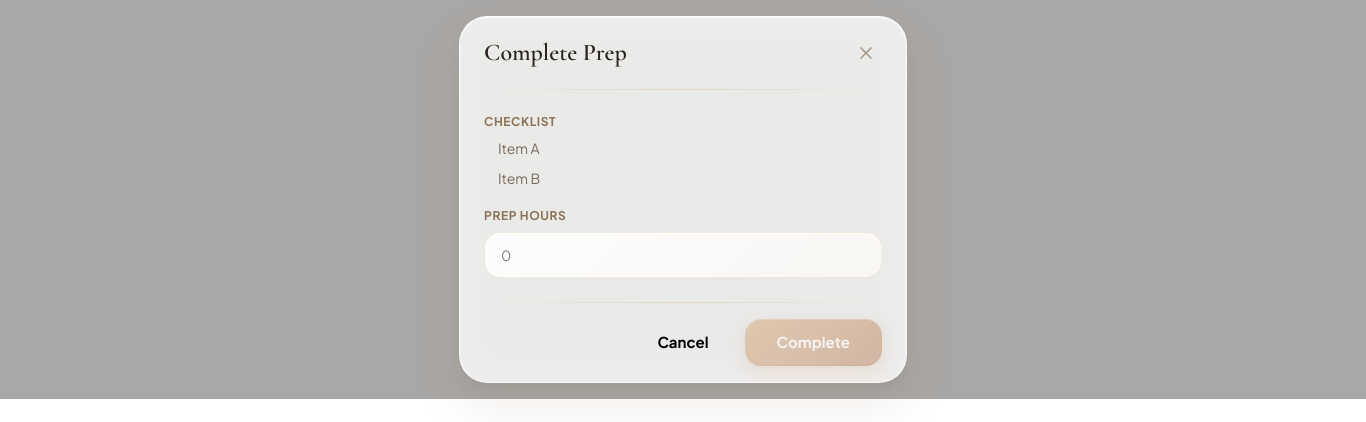
StepModal › Complete button enabled when hours > 0 and all checked
Type "3" into the number field with placeholder "0" at (683, 255), box [484,232,882,278]
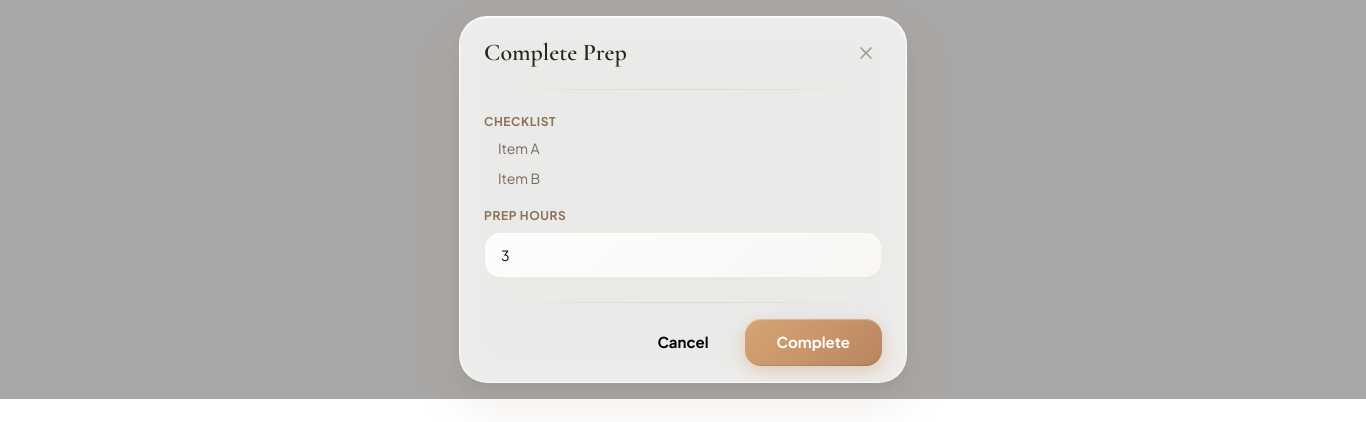
Expected: the button "Complete" is enabled, [744,319,882,366]
